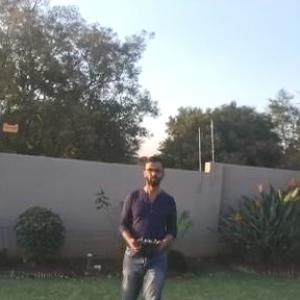follow: (106, 151, 184, 299)
